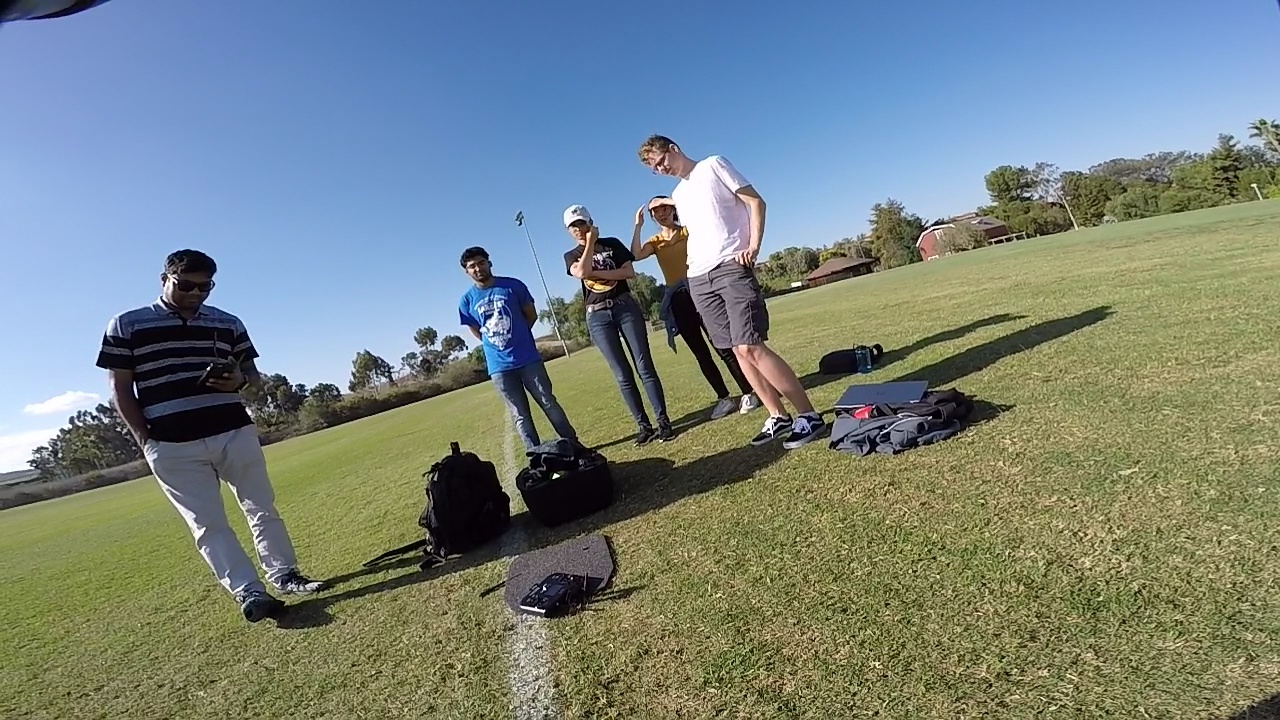person: (99, 240, 321, 620), (621, 121, 823, 438), (448, 235, 593, 470), (554, 197, 673, 441), (628, 179, 691, 359)
